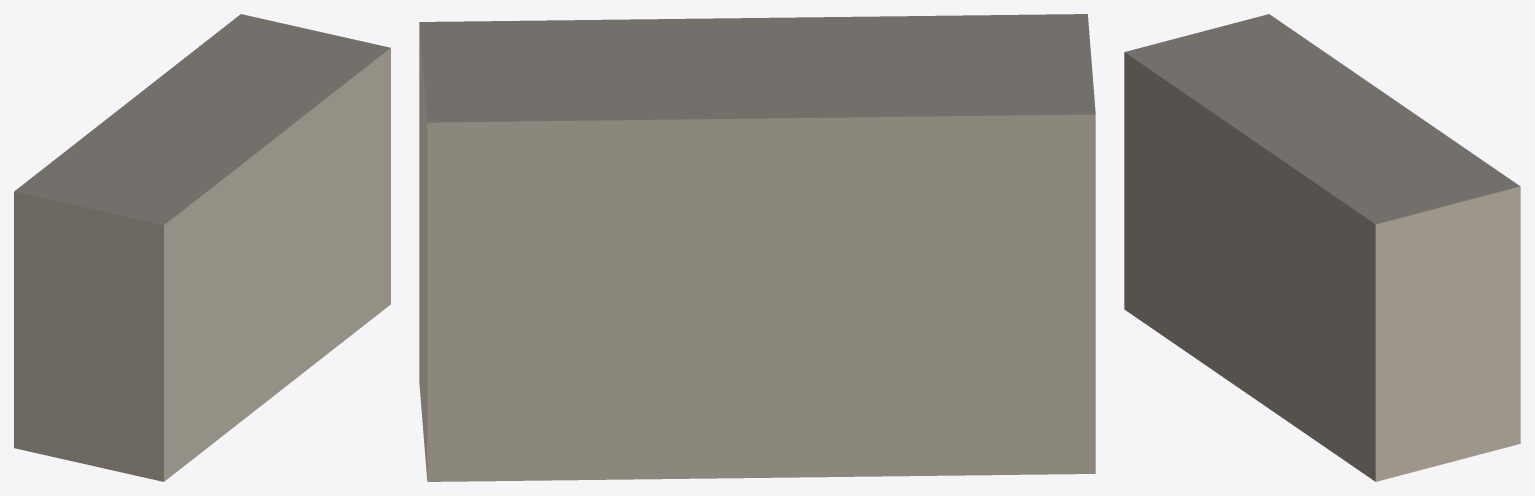
3 renders of one model, left to right at view 1: azimuth 30°, elevation 25°; view 2: azimuth 150°, elevation 25°; view 3: azimuth 270°, elevation 25°, orthographic. The views are drawn at different scales.
Visible parts, largest first — view 1: HP-w389701866; view 2: HP-w389701866; view 3: HP-w389701866.
Part boxes in pixels (x1,y1,x2,y2): HP-w389701866: (14,14,390,481); HP-w389701866: (419,14,1095,481); HP-w389701866: (1124,14,1520,481).
Size of the model in its own units: 31.56 by 18 by 25.09.
